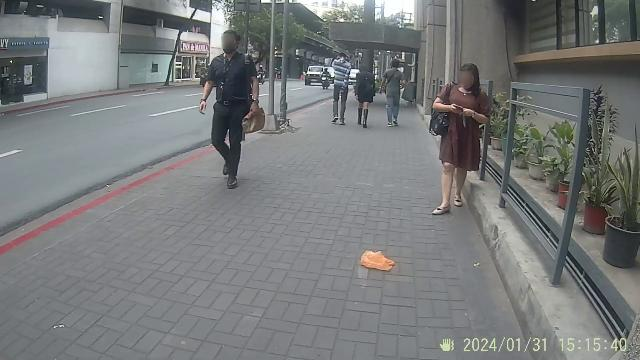potted_plant: (594, 110, 640, 270), (517, 112, 569, 198)
utility_post: (262, 0, 284, 136)
